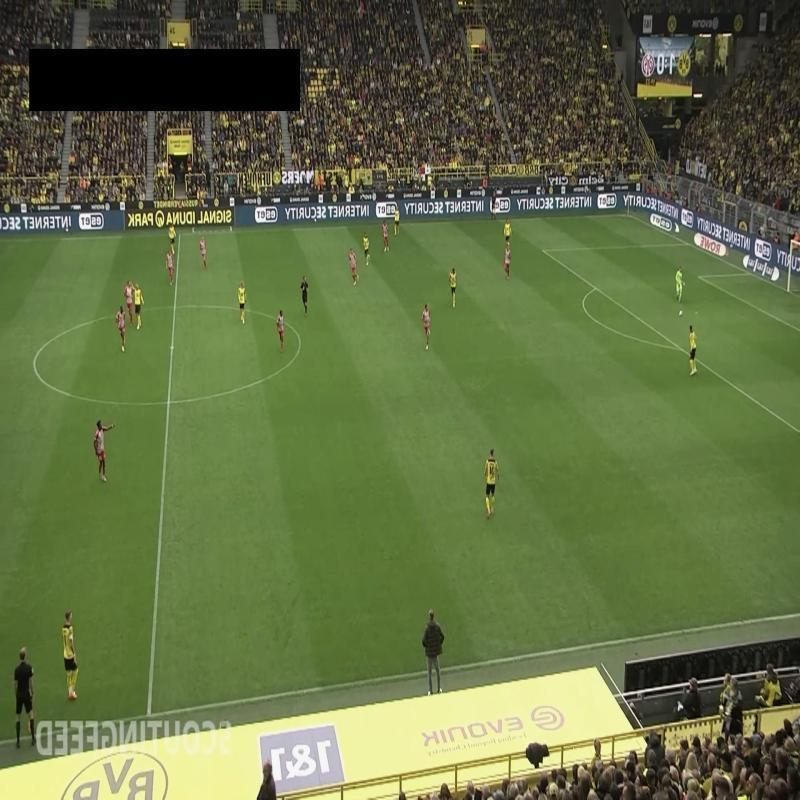1: (621, 208, 635, 222)
10: (588, 280, 602, 294)
11: (672, 340, 686, 353)
13: (172, 228, 186, 242)
14: (168, 300, 182, 314)
15: (162, 396, 176, 410)
16: (140, 704, 157, 726)
2: (681, 237, 695, 250)
3: (743, 266, 757, 280)
7: (692, 269, 706, 283)
9: (537, 243, 551, 257)
c: (27, 353, 42, 372), (292, 334, 306, 348)
